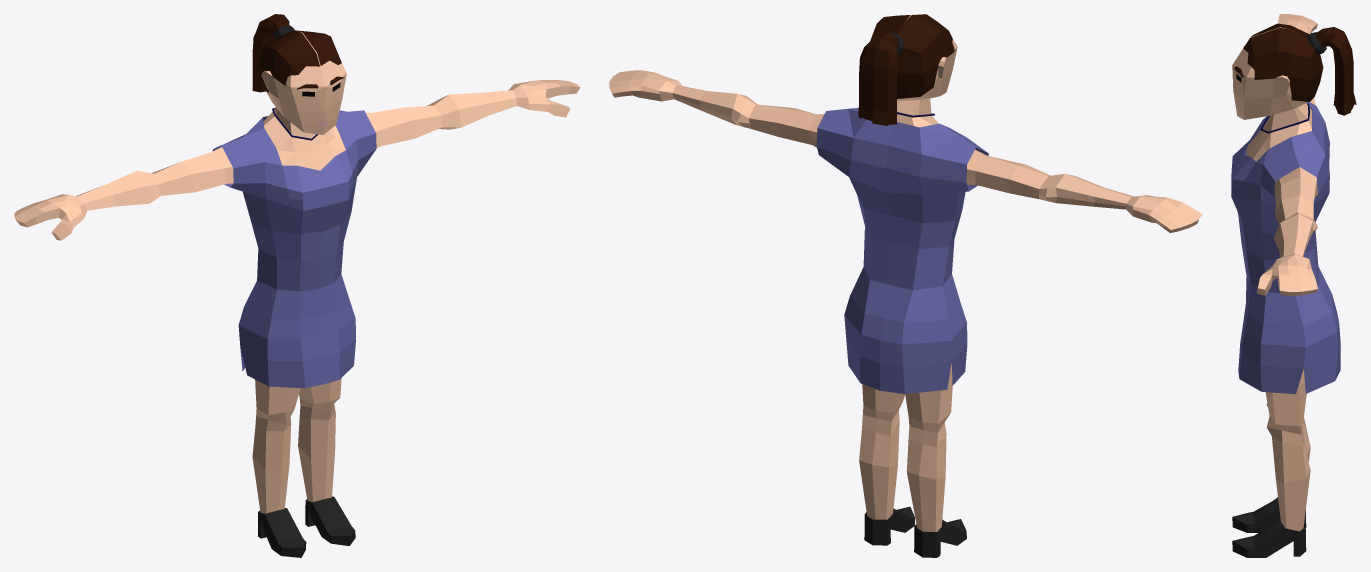
The model's file is NPC_W_TrajeMoradoClaro_Escenario2_Coleta.fbx.
3 renders of one model, left to right at view 1: azimuth 30°, elevation 25°; view 2: azimuth 150°, elevation 25°; view 3: azimuth 270°, elevation 25°, orthographic. The views are drawn at different scales.
Parts seen in each view (by area): view 1: Vestido; view 2: Vestido; view 3: Vestido.
Part boxes in pixels (<box>): Vestido: <box>14,14,580,557</box>; Vestido: <box>609,14,1202,557</box>; Vestido: <box>1231,14,1356,557</box>.
Bounding box in the file's own units: 215 × 185 × 40.91.
